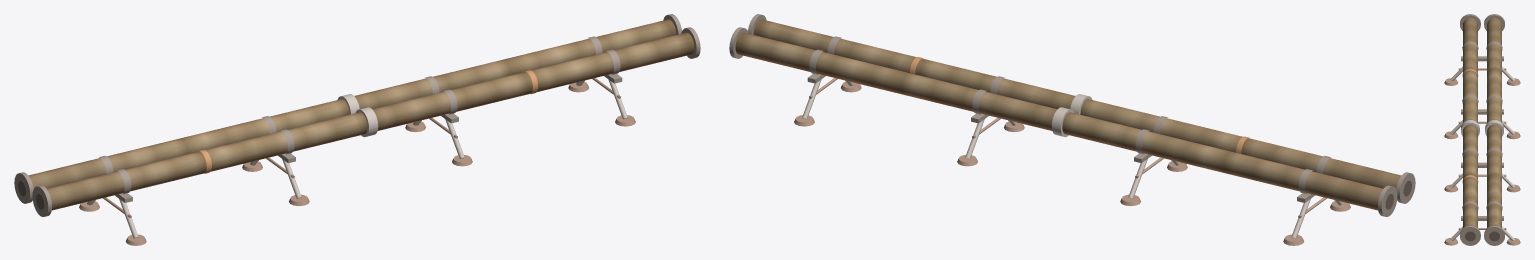
File: E14_pipeline_straight_10m.glb
3 renders of one model, left to right at view 1: azimuth 30°, elevation 25°; view 2: azimuth 150°, elevation 25°; view 3: azimuth 270°, elevation 25°, orthographic. The views are drawn at different scales.
Visible parts, largest first — view 1: pipe, end_flange, footpad, mid_coupling, bore; view 2: pipe, end_flange, footpad, mid_coupling, bore; view 3: pipe, end_flange, footpad, mid_coupling, bore.
Boxes of the visible parts, <box> form: pipe: <box>28,19,694,210</box>; end_flange: <box>14,14,700,216</box>; footpad: <box>79,78,635,245</box>; mid_coupling: <box>87,79,627,238</box>; bore: <box>18,70,537,209</box>; pipe: <box>735,19,1401,210</box>; end_flange: <box>729,14,1415,216</box>; footpad: <box>794,78,1350,245</box>; mid_coupling: <box>802,79,1342,238</box>; bore: <box>910,57,1411,209</box>; pipe: <box>1463,18,1501,228</box>; end_flange: <box>1460,14,1504,245</box>; footpad: <box>1444,68,1520,245</box>; mid_coupling: <box>1450,67,1514,240</box>; bore: <box>1462,68,1499,241</box>.
Size of the model in its own units: 10 by 0.9299 by 1.52.
Materials: 5 (1 with a texture image).
